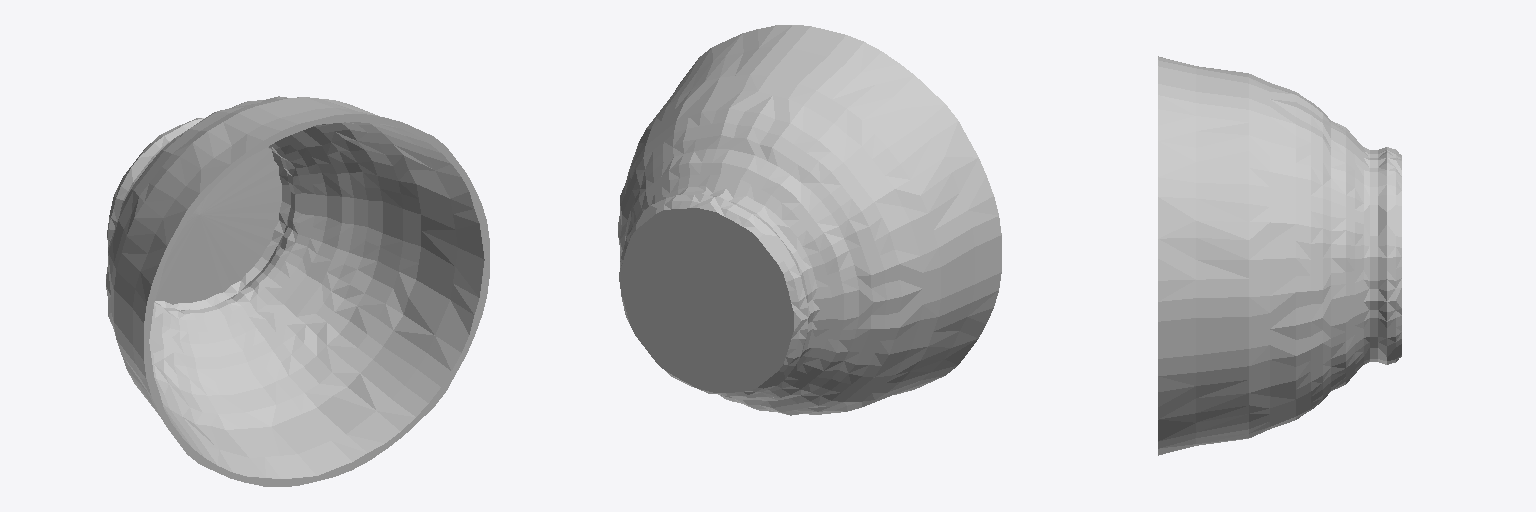
The model's file is bowl_new_non_convex.obj.
3 renders of one model, left to right at view 1: azimuth 30°, elevation 25°; view 2: azimuth 150°, elevation 25°; view 3: azimuth 270°, elevation 25°, orthographic.
Size of the model in its own units: 0.136 by 0.136 by 0.083.